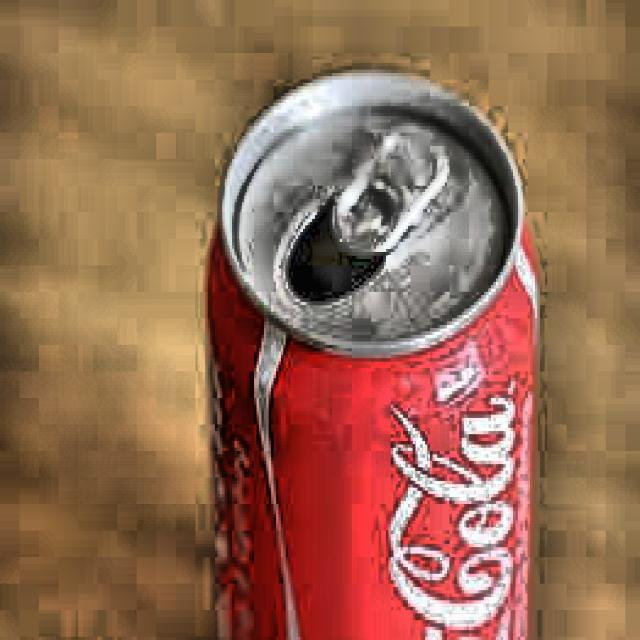can: (191, 46, 547, 640)
